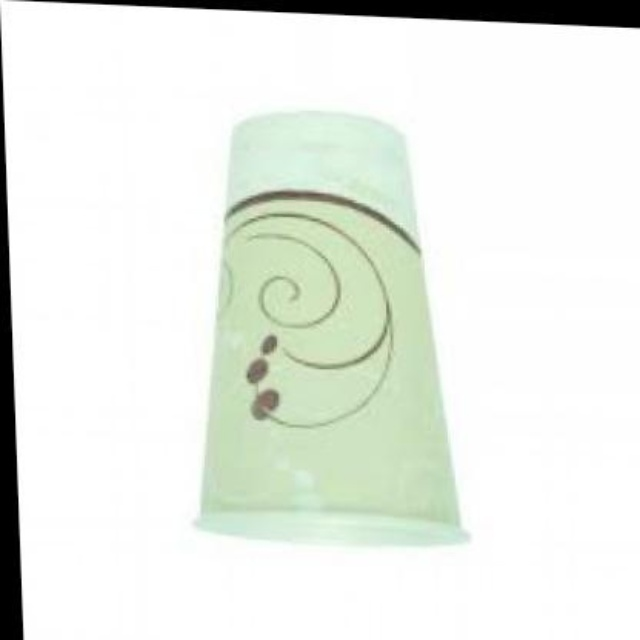trash: (200, 112, 462, 542)
